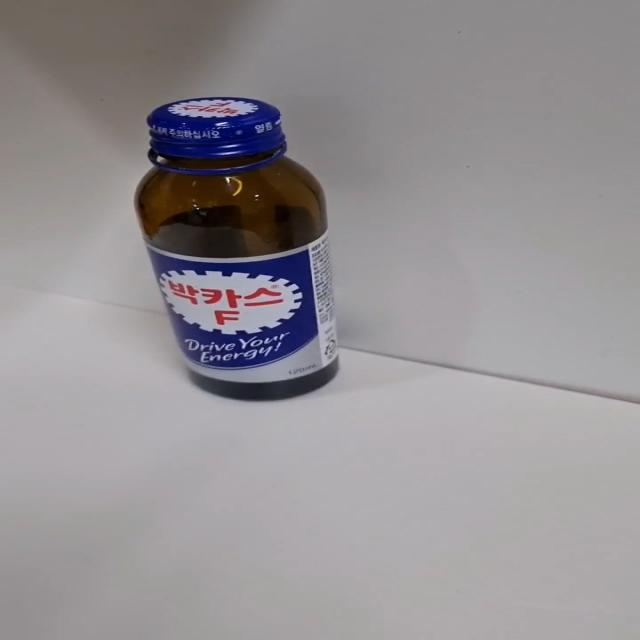Glass: (133, 96, 339, 402)
